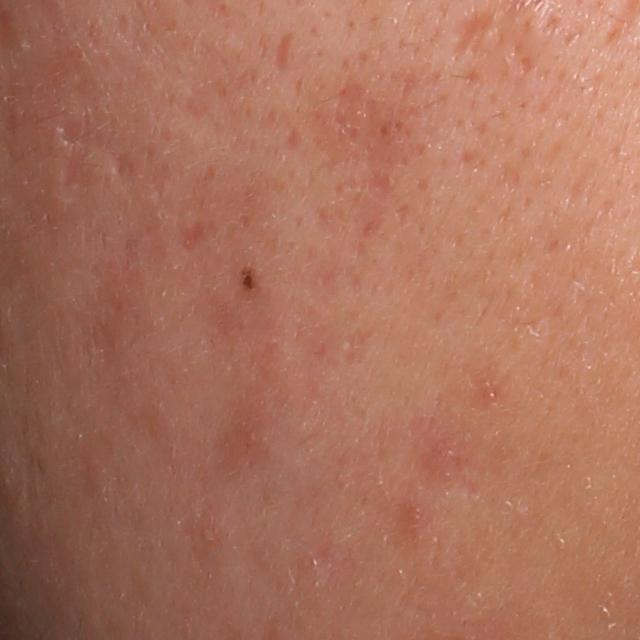atrophic_scar: (450, 10, 495, 58), (270, 22, 308, 73), (338, 325, 376, 364)
nevus: (237, 269, 258, 294)
